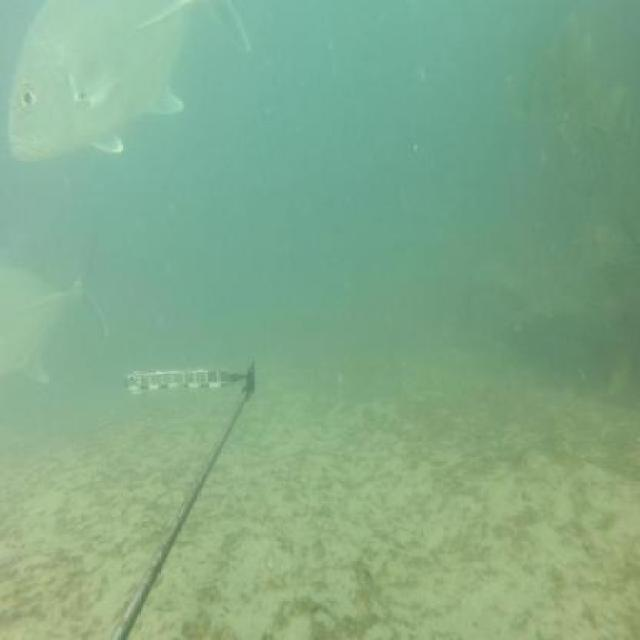Caranx: (5, 0, 258, 166), (0, 245, 115, 394)
